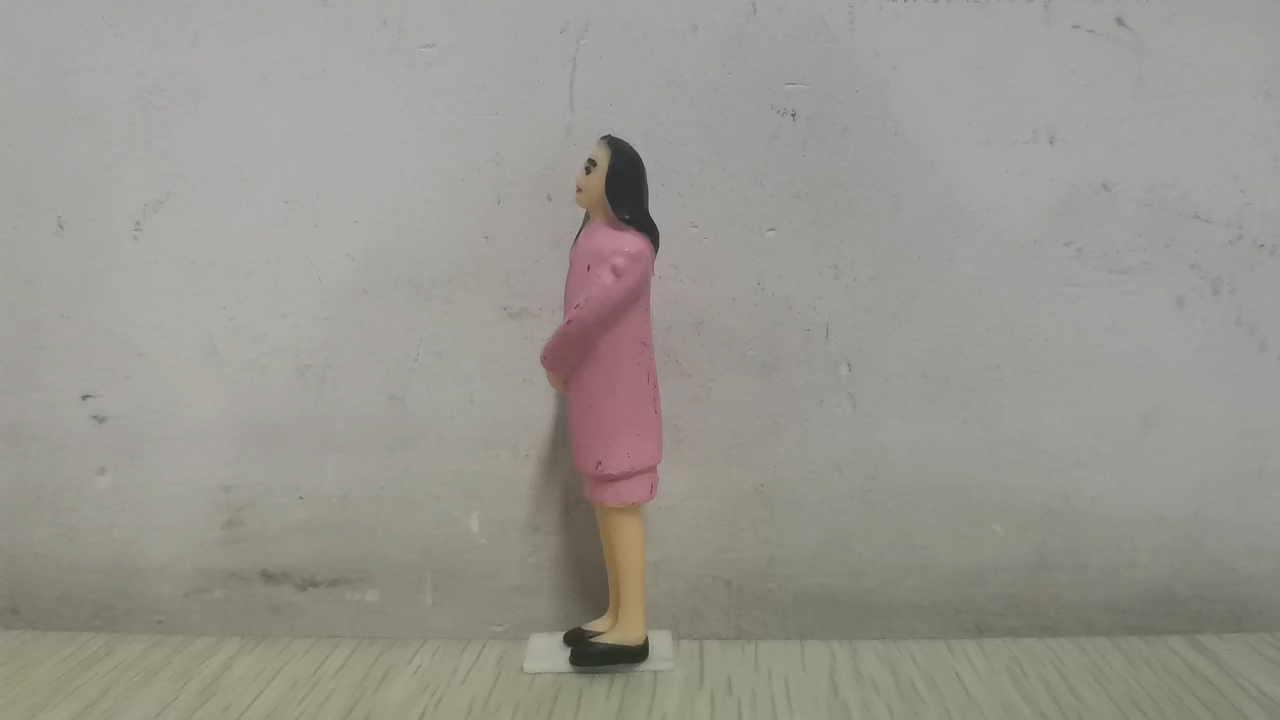person: (537, 134, 663, 670)
